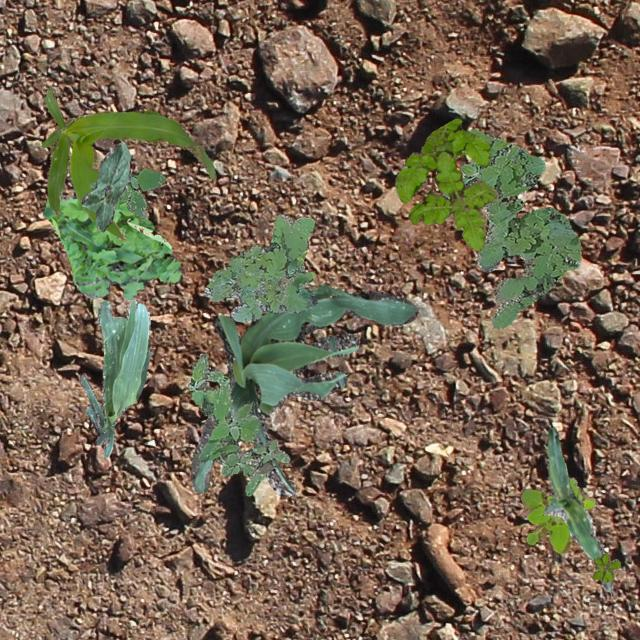crop: (190, 284, 417, 496), (41, 86, 214, 240), (542, 426, 612, 592), (78, 298, 148, 456), (80, 140, 130, 230)
weed: (442, 128, 580, 328), (42, 193, 182, 299), (188, 352, 288, 494), (394, 118, 496, 248), (204, 214, 316, 320), (520, 476, 594, 554), (89, 168, 164, 218), (592, 552, 620, 582)
